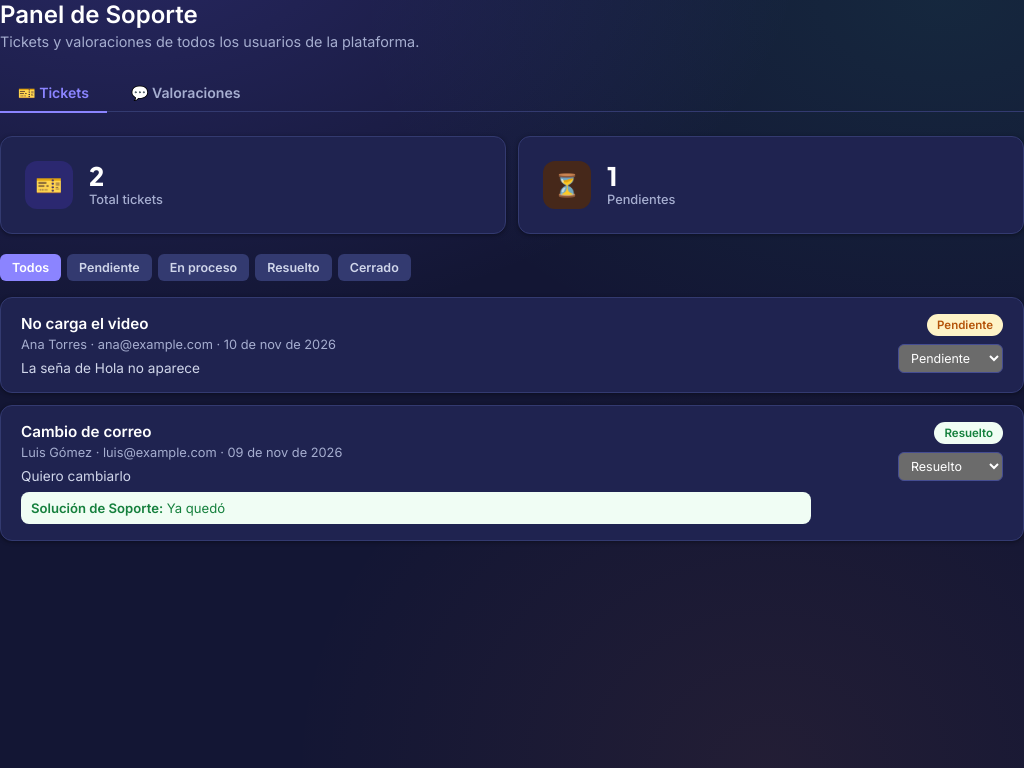
Panel de Soporte · Tickets › should ask for the solution before resolving a ticket
This screenshot has width=1024, height=768.
Expected: the text "No carga el video" is shown, [21,314,148,333]
elige "Resuelto" sin escribir la solución
Select "Resuelto" in the dropdown in the row of "10 de nov de 2026" at (950, 358), box [898,344,1003,373]
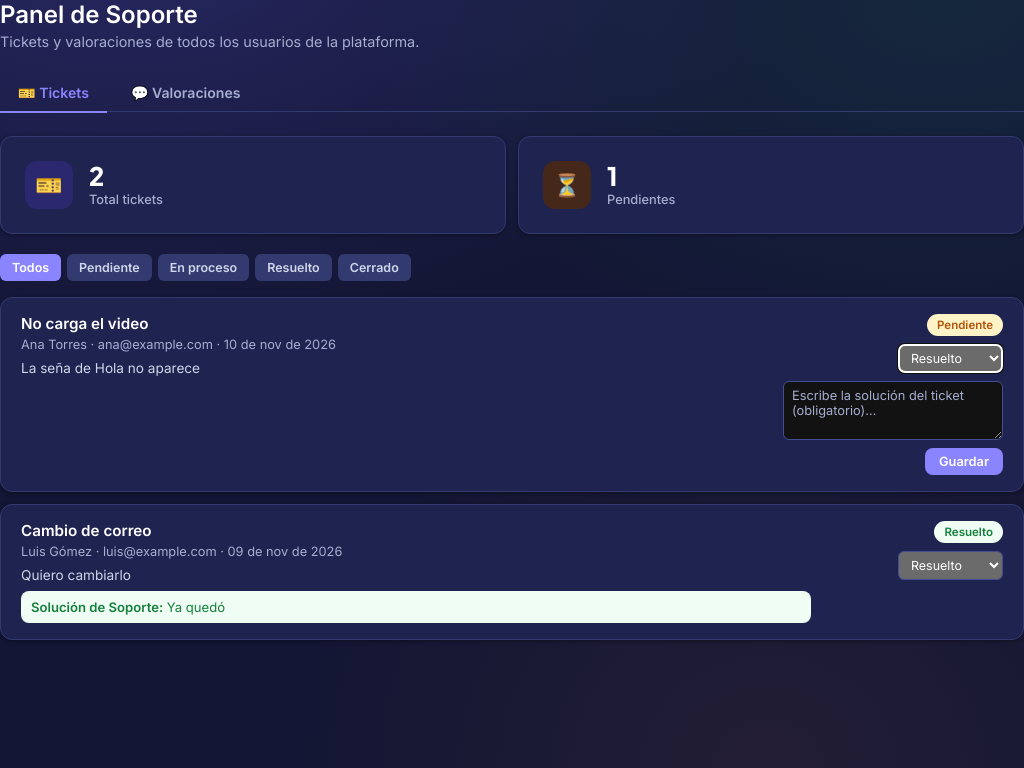
Click the button "Guardar".
click(964, 462)  # box [925,448,1003,475]
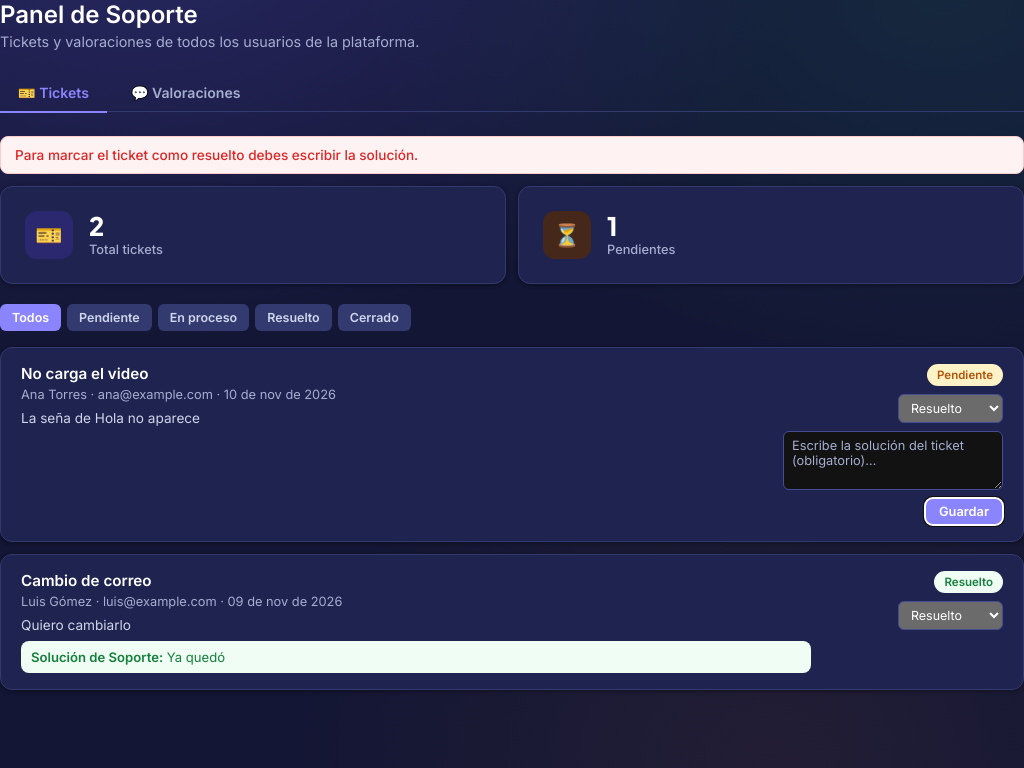
Result: the text "Para marcar el ticket como resuelto debes escribir la solución." is shown at [0,136,1023,174]
